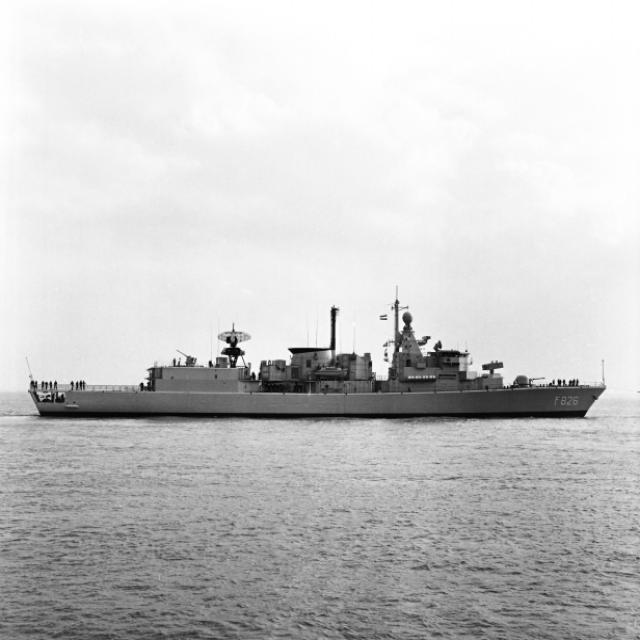Fragata: (21, 300, 610, 423)
